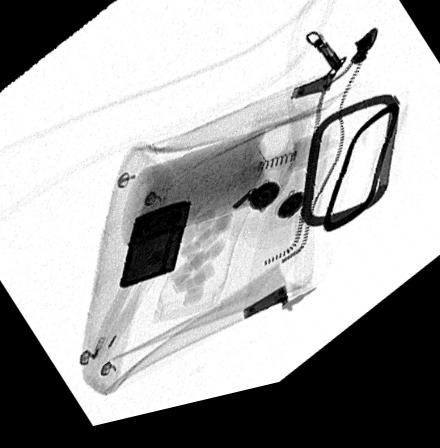Lighter: (118, 209, 192, 294)
